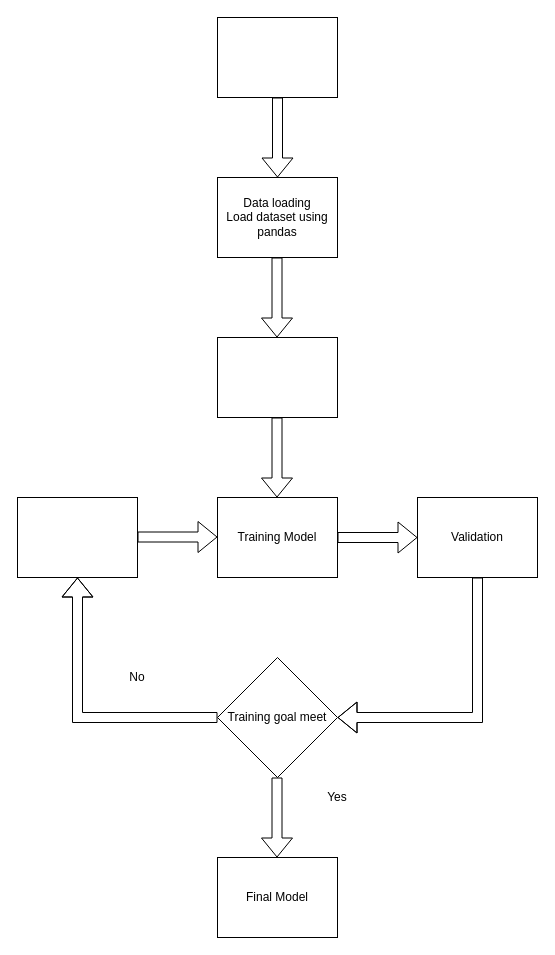
The diagram is 555 pixels wide and 955 high, and some of its shapes have lost their labels. Here are the shapes that lost their labels. From the top down, the centre of each, then its label:
At (277,57): "Dataset selection Choosing a dataset".
At (277,377): "Data Preprocessing".
At (77,537): "Parameters Tuning".
